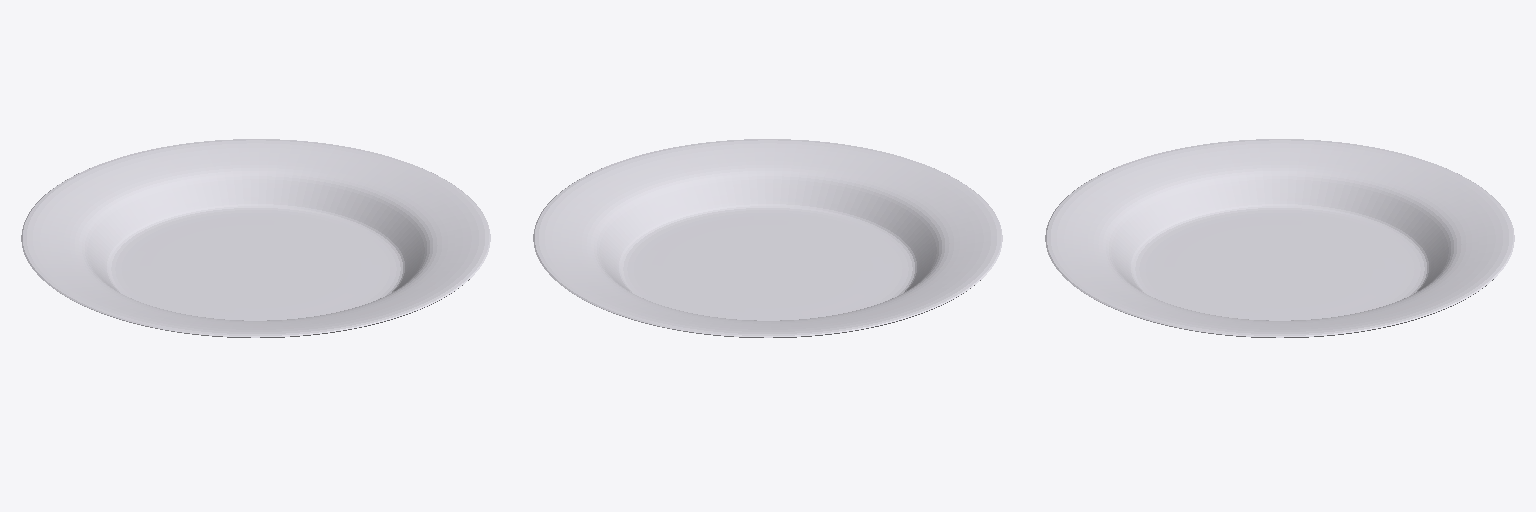
Rendered from plate.obj.
The picture shows the model from 3 angles: view 1: azimuth 30°, elevation 25°; view 2: azimuth 150°, elevation 25°; view 3: azimuth 270°, elevation 25°; orthographic projection.
Parts seen in each view (by area): view 1: Circle_Circle.002; view 2: Circle_Circle.002; view 3: Circle_Circle.002.
Boxes of the visible parts, x1,y1,x2,y2 form: Circle_Circle.002: [21, 139, 490, 337]; Circle_Circle.002: [533, 139, 1002, 337]; Circle_Circle.002: [1045, 139, 1514, 337].
Bounding box in the file's own units: 0.388 × 0.034 × 0.388.